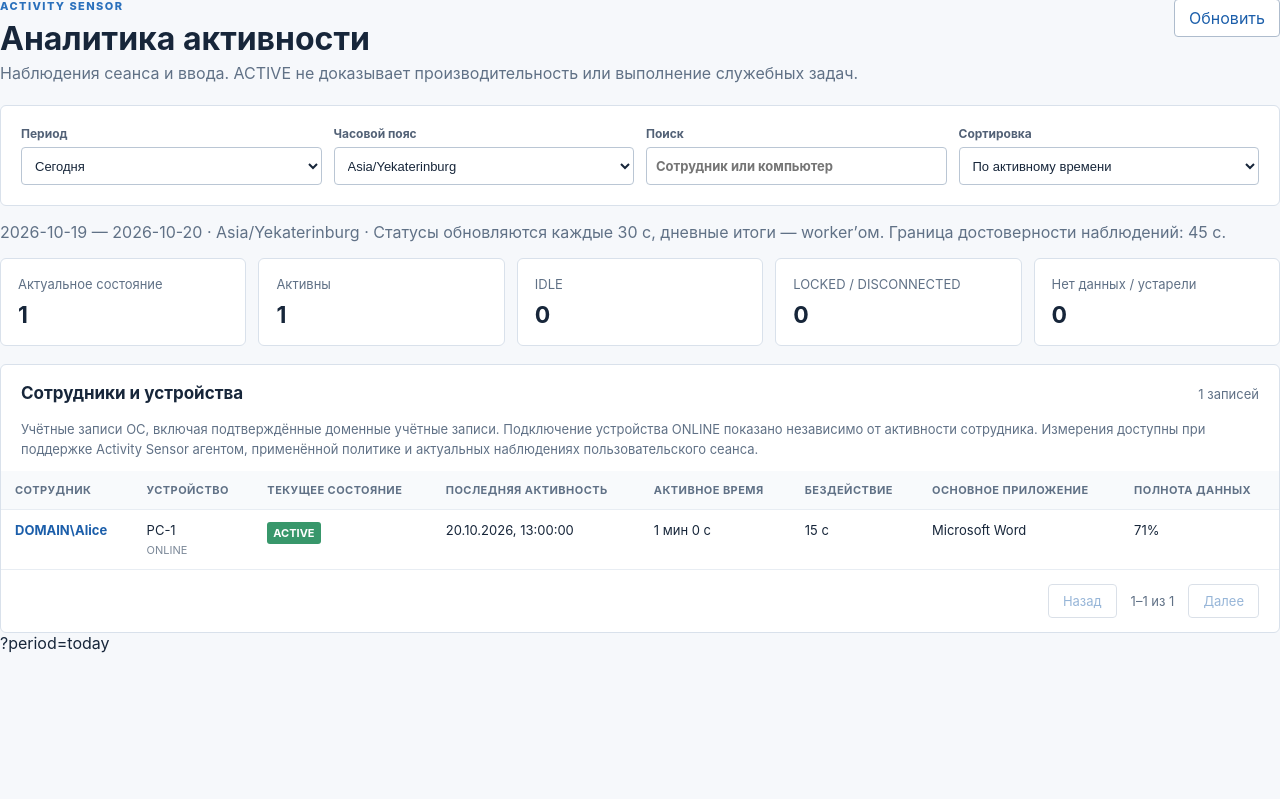
Test: opts into separate power markers and preserves UNKNOWN gaps and activity totals
Click the button "DOMAIN\\Alice".
click(61, 530)  # box [15, 522, 107, 538]
(page scrolled)
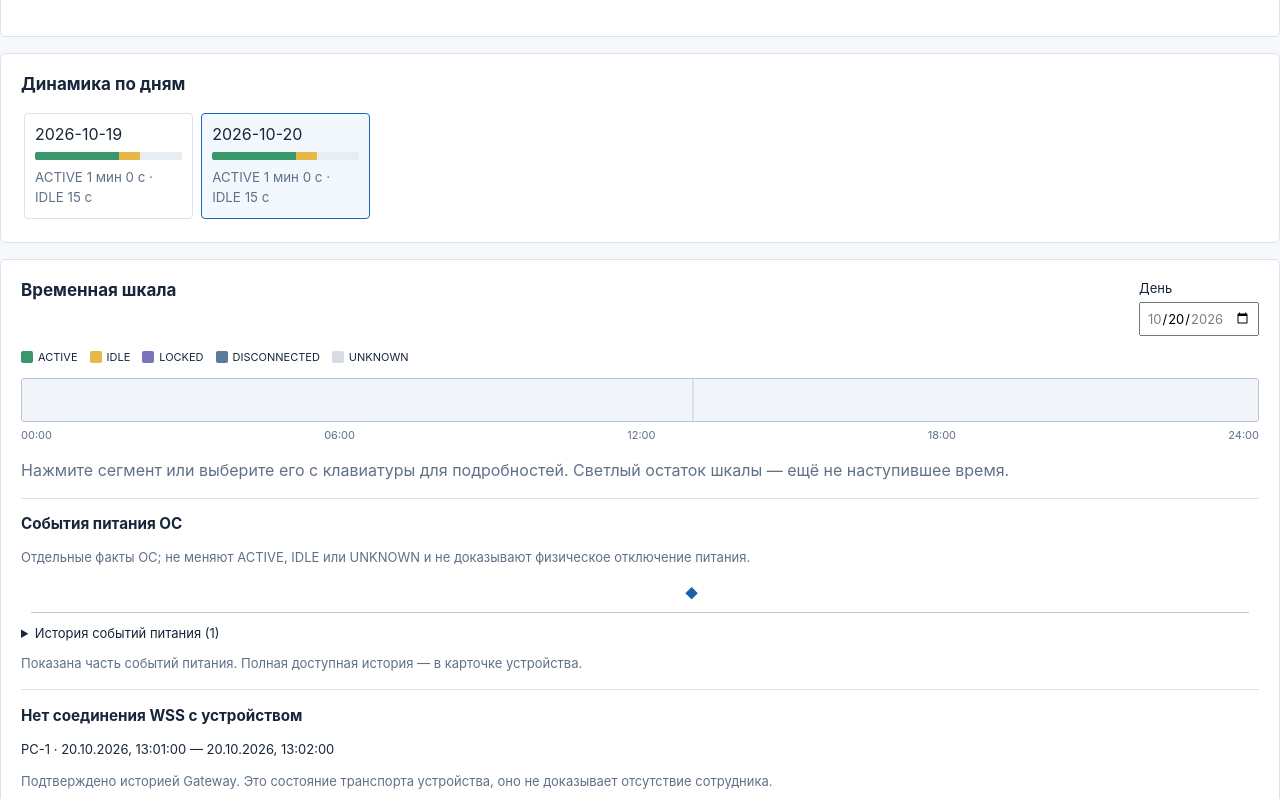
Expected: the heading "События питания ОС" is shown, [21, 514, 182, 533]
Click the button named "UNKNOWN".
click(693, 400)  # box [692, 379, 694, 421]
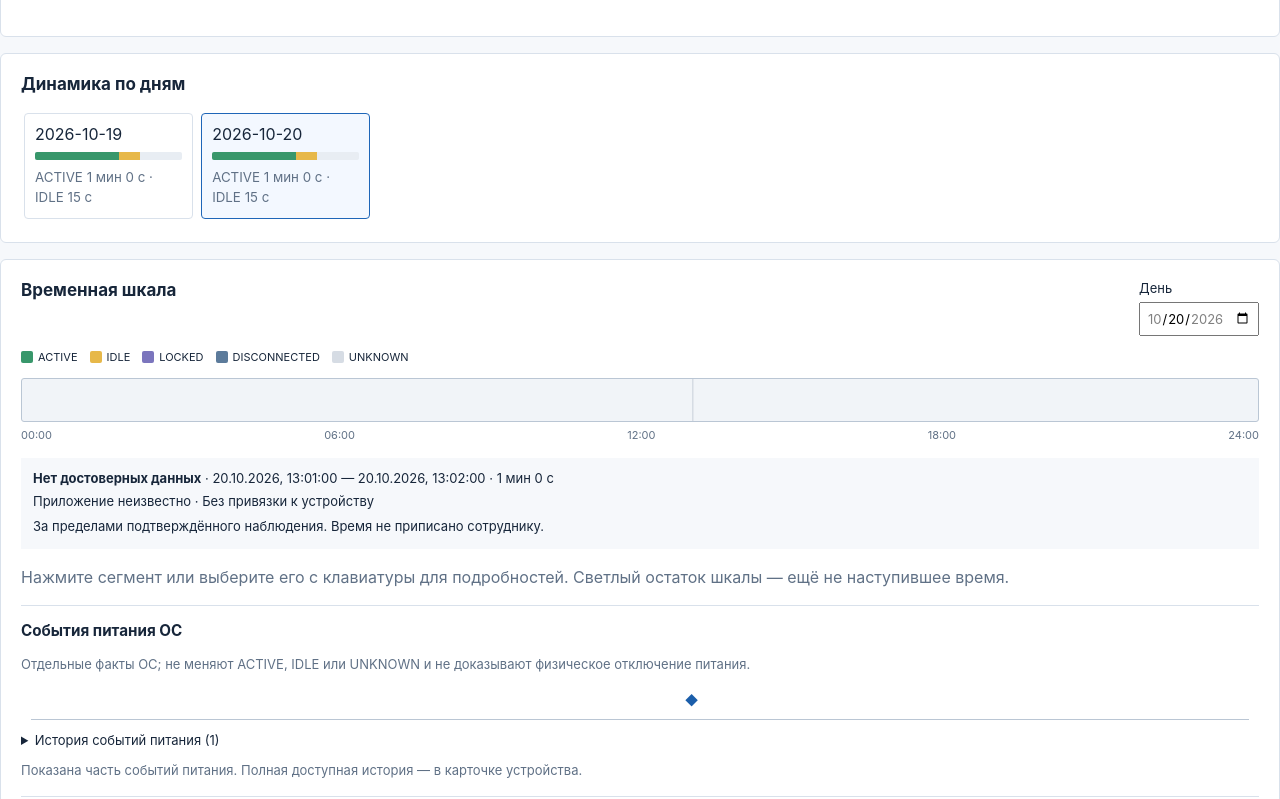
Expected: the text "Нет достоверных данных" is shown 2 times
Expected: the text "Время не приписано сотруднику" is shown, [33, 518, 544, 534]
Click the button named "Событие питания: Переход в сон".
click(692, 700)  # box [681, 688, 702, 712]
(page scrolled)
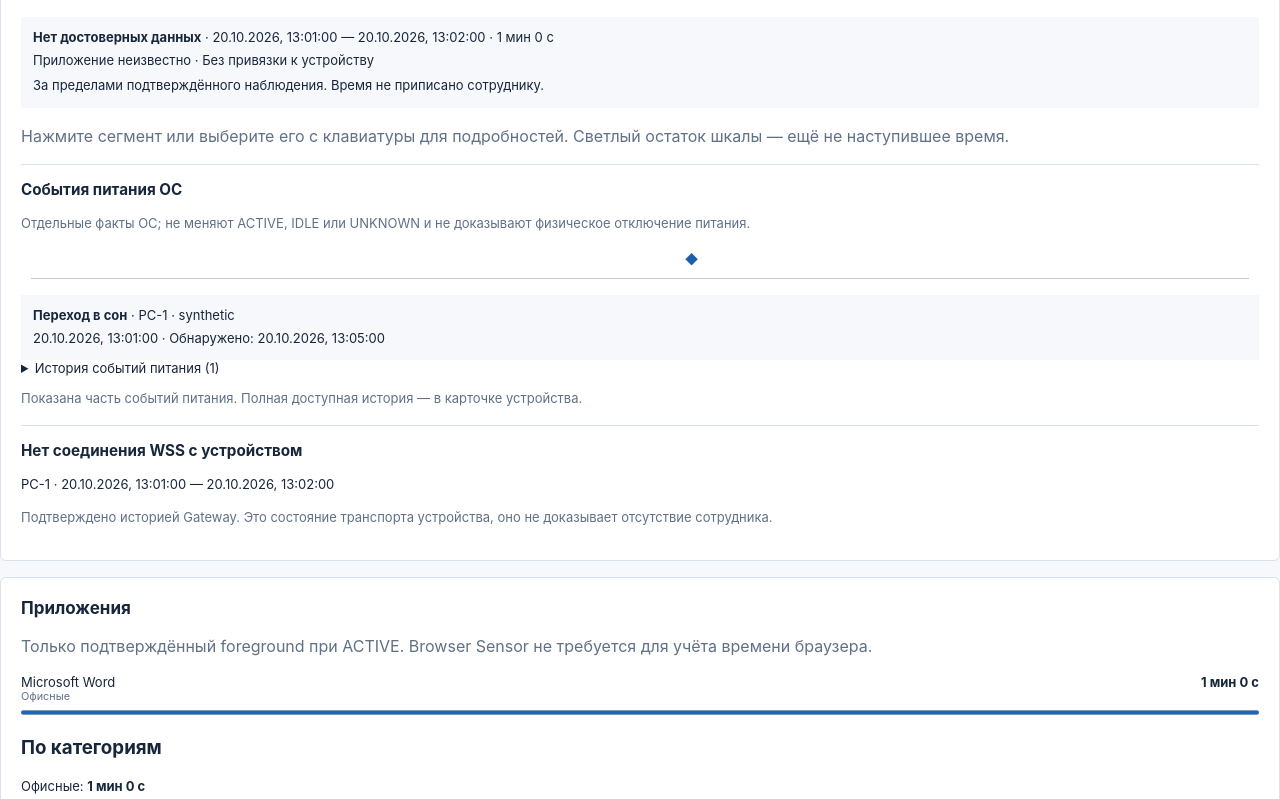
Expected: the text "Время не приписано сотруднику" is shown, [33, 78, 544, 94]
Expected: the heading "Нет соединения WSS с устройством" is shown, [21, 441, 302, 460]
Expected: the element named "Выбранное событие питания" shows "synthetic", [178, 307, 235, 323]
